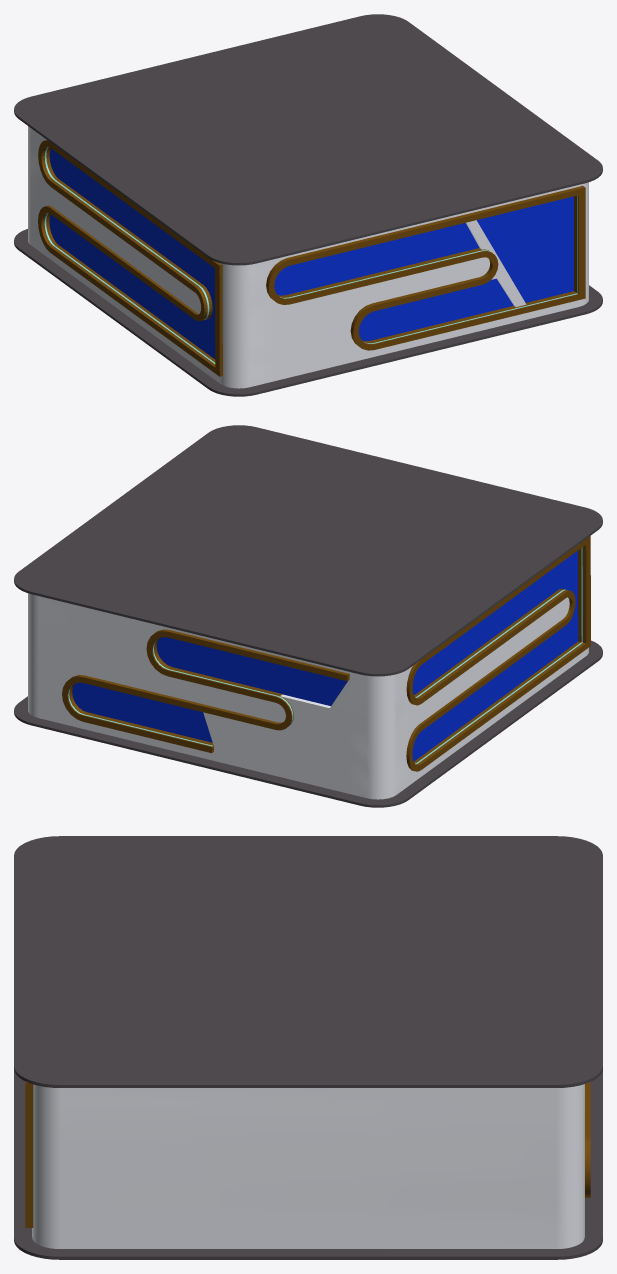
File: SM_B_i4_mid1.fbx
3 views of the same model, one above another, from view 1: azimuth 30°, elevation 25°; view 2: azimuth 150°, elevation 25°; view 3: azimuth 270°, elevation 25° (orthographic). The views are drawn at different scales.
Visible parts, largest first — view 1: SM_B_i4_mid1; view 2: SM_B_i4_mid1; view 3: SM_B_i4_mid1.
Part boxes in pixels (x1,y1,x2,y2): SM_B_i4_mid1: [14, 14, 602, 396]; SM_B_i4_mid1: [14, 425, 602, 807]; SM_B_i4_mid1: [14, 836, 602, 1259].
Bounding box in the file's own units: 2100 × 688 × 2100.
